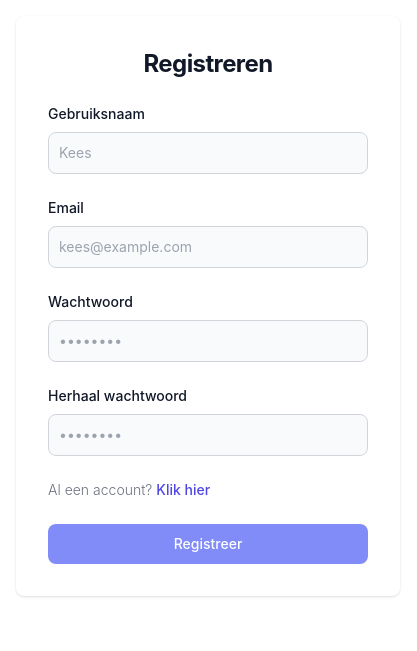
Test register page › Registreer zonder email
This screenshot has width=417, height=651.
Type "test" into the field with id "gebruiksnaam" at x=208, y=153, box [48,132,368,174]
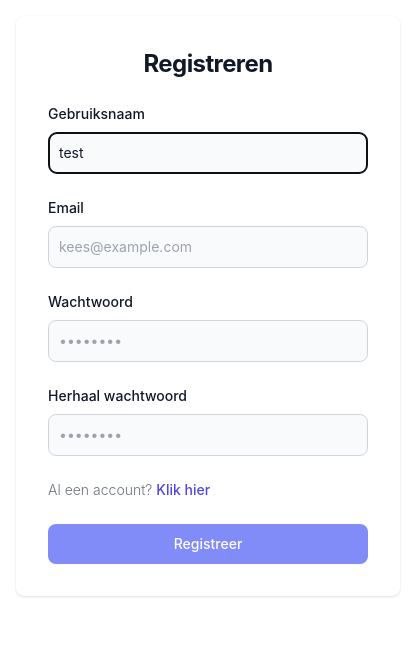
Click the button "Registreer" at x=208, y=544, box [48,524,368,564]
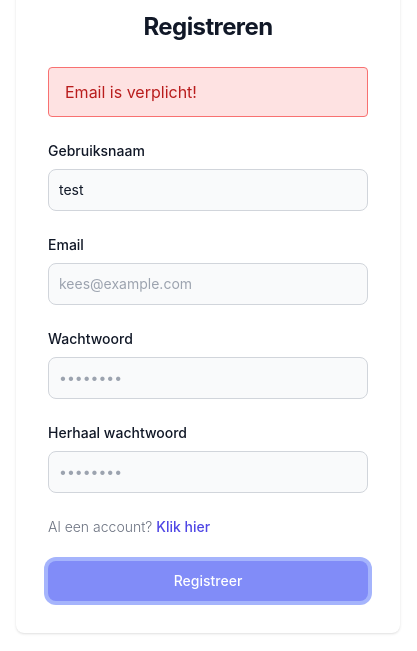
Result: the text "Email is verplicht!" is shown at [65,82,197,102]
